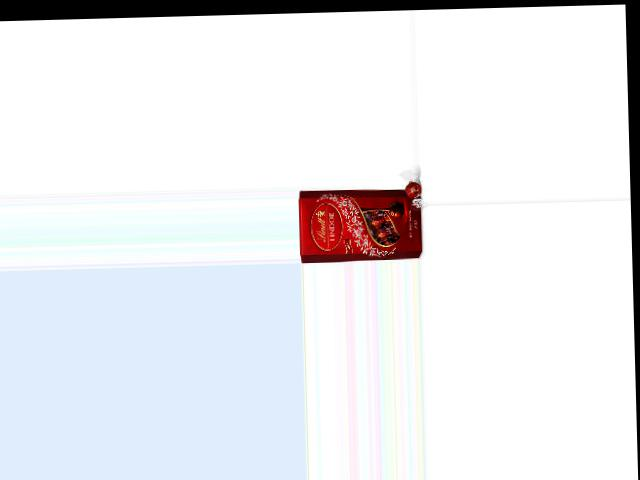chocolate: (298, 180, 422, 261)
